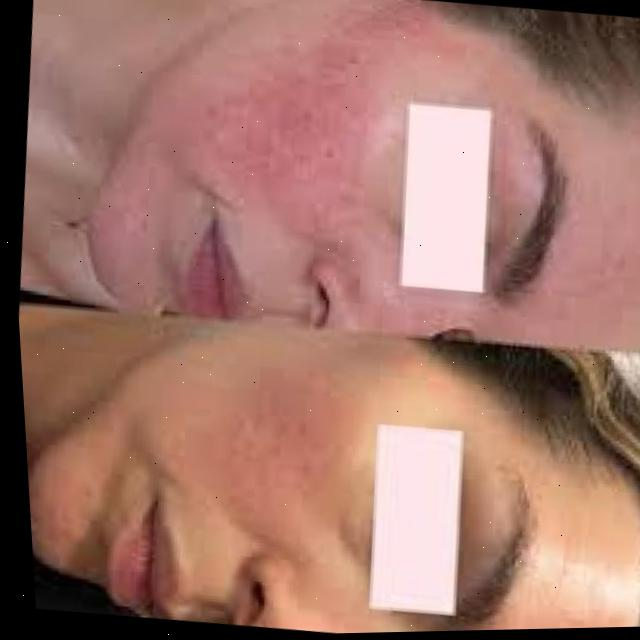Rosacea: (193, 0, 424, 230), (206, 358, 375, 506)
